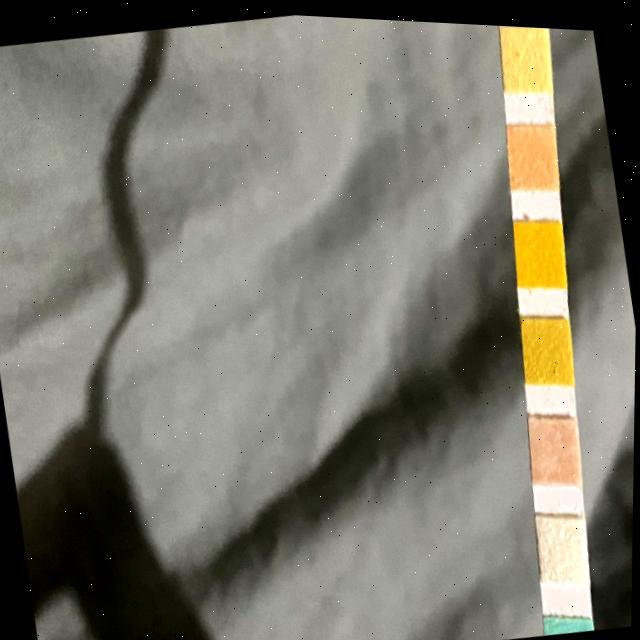Bilirubin: (537, 512, 588, 574)
Blood: (514, 217, 564, 276)
Glucose: (546, 613, 589, 631)
Ketone: (530, 414, 579, 475)
Protein: (501, 26, 549, 78)
SpGravity: (522, 311, 572, 373)
pH: (508, 121, 556, 175)
